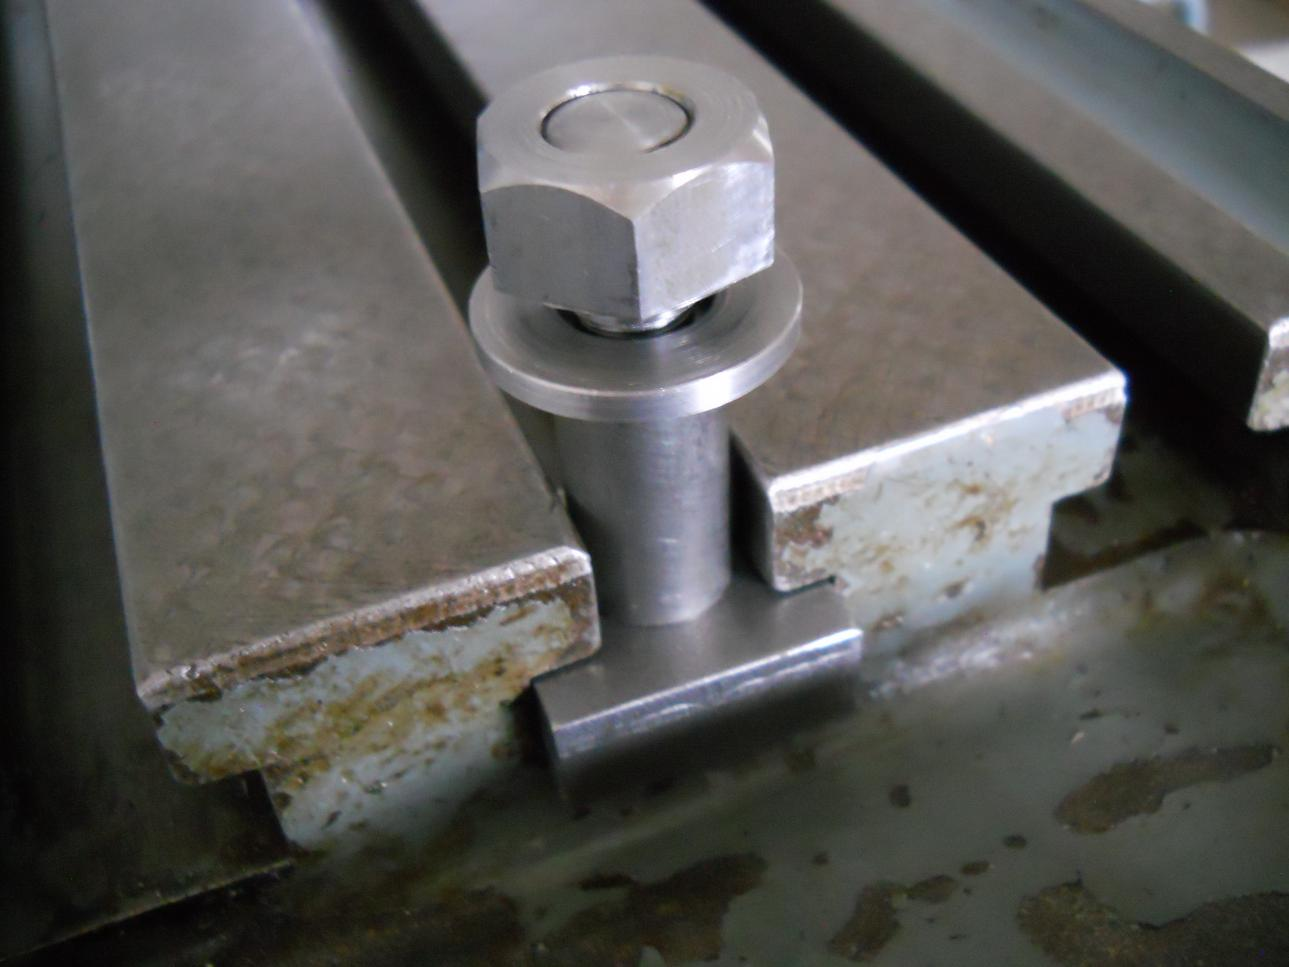bolt_b: (475, 45, 779, 330)
